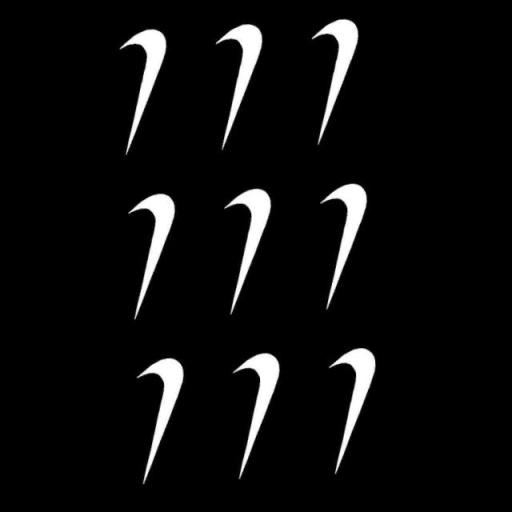Nike: (322, 338, 384, 477)
